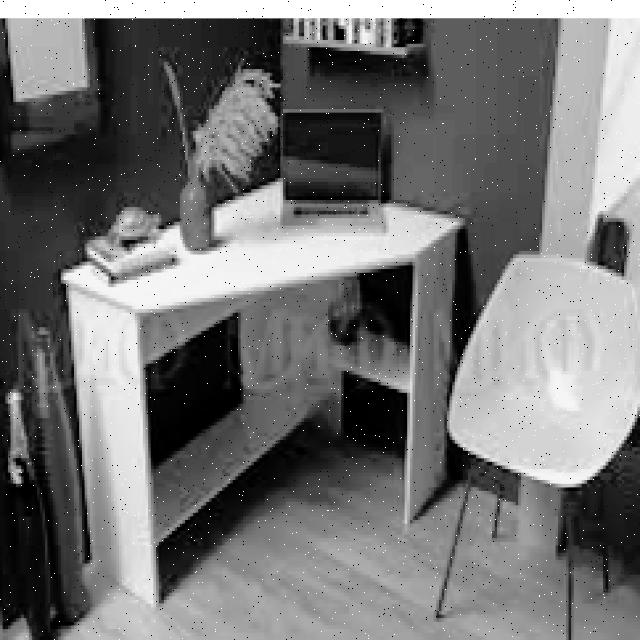table: (58, 175, 466, 607)
